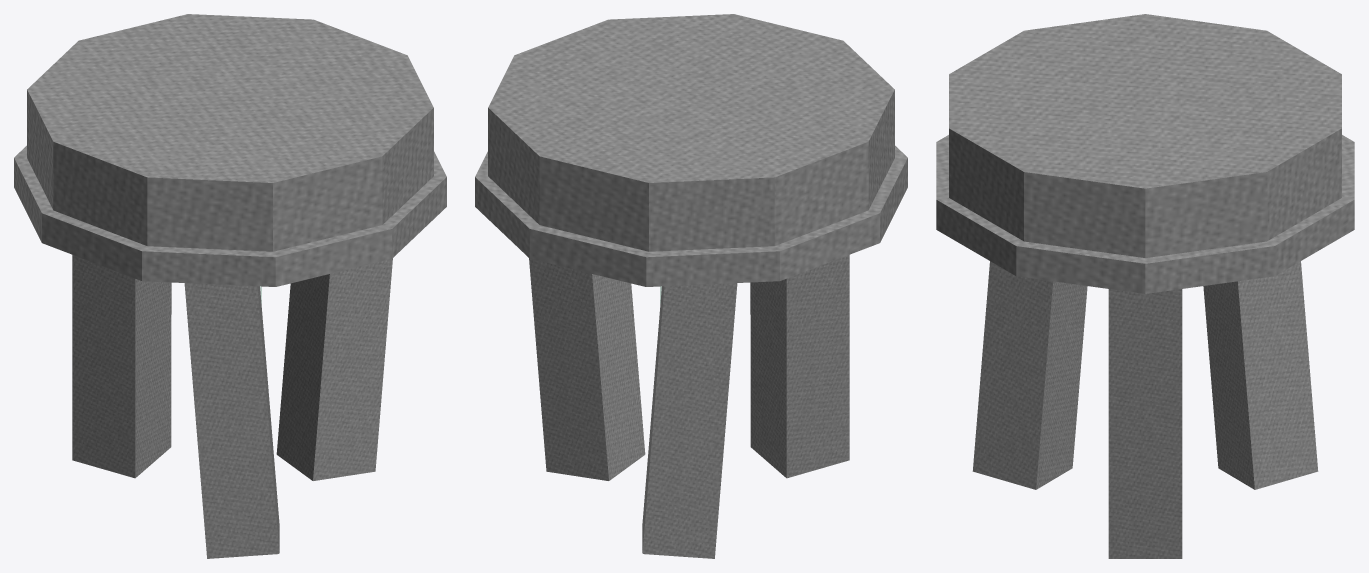
Rendered from decor-geologist-stool.glb.
3 views of the same model, side by side, from view 1: azimuth 30°, elevation 25°; view 2: azimuth 150°, elevation 25°; view 3: azimuth 270°, elevation 25° (orthographic).
Parts seen in each view (by area): view 1: seat, leg-1, leg-0, leg-2, seat-band; view 2: seat, leg-2, leg-0, leg-1, seat-band; view 3: seat, leg-1, leg-2, leg-0, seat-band.
Boxes of the visible parts, x1,y1,x2,y2 form: seat: [27, 14, 433, 251]; leg-1: [184, 283, 279, 558]; leg-0: [276, 258, 392, 480]; leg-2: [72, 255, 171, 478]; seat-band: [14, 145, 446, 286]; seat: [488, 14, 894, 251]; leg-2: [642, 283, 737, 558]; leg-0: [529, 258, 645, 480]; leg-1: [750, 255, 849, 478]; seat-band: [475, 145, 907, 286]; seat: [949, 14, 1341, 257]; leg-1: [972, 261, 1087, 489]; leg-2: [1203, 261, 1318, 489]; leg-0: [1108, 289, 1182, 558]; seat-band: [936, 135, 1354, 293].
Bounding box in the file's own units: 0.66 × 0.6556 × 0.6277.
4 materials, 4 textured.
